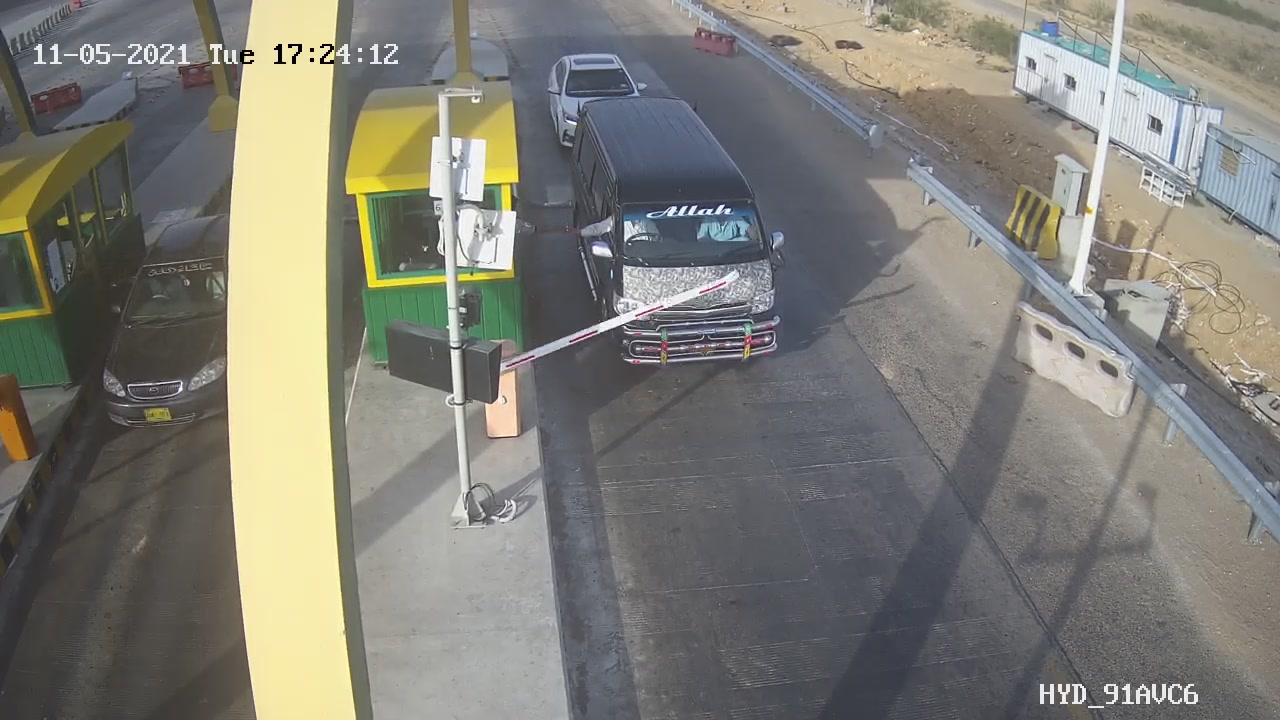F2: (552, 79, 816, 381)
